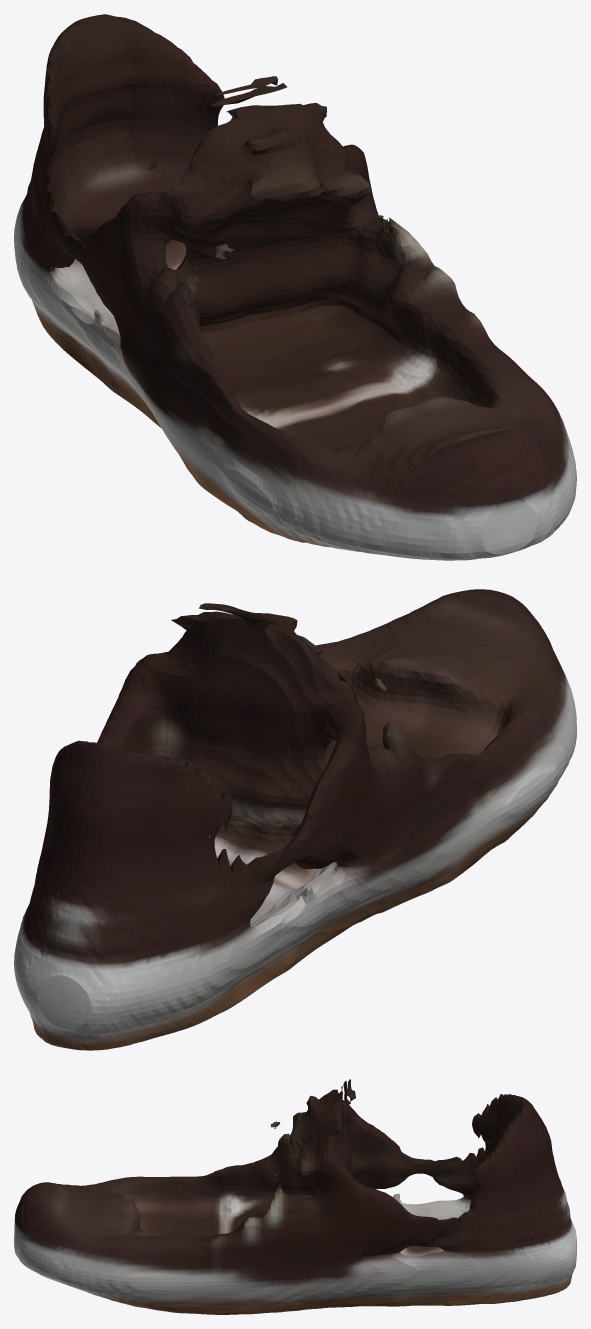
The picture shows the model from 3 angles, top to bottom: view 1: azimuth 30°, elevation 25°; view 2: azimuth 150°, elevation 25°; view 3: azimuth 270°, elevation 25°; orthographic projection. The views are drawn at different scales.
Parts seen in each view (by area): view 1: geometry_0; view 2: geometry_0; view 3: geometry_0.
Part boxes in pixels (x1=…): geometry_0: x1=14, y1=14, x2=576, y2=560; geometry_0: x1=14, y1=589, x2=576, y2=1050; geometry_0: x1=14, y1=1079, x2=576, y2=1314.
Bounding box in the file's own units: 0.5863 × 0.6174 × 1.6.
